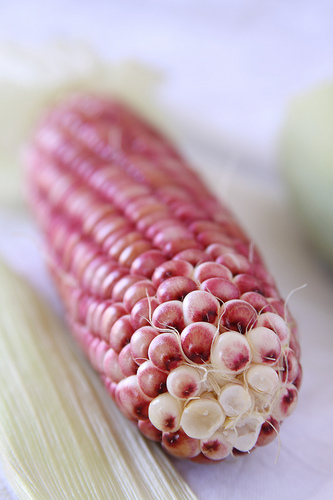corn: (16, 82, 302, 462)
